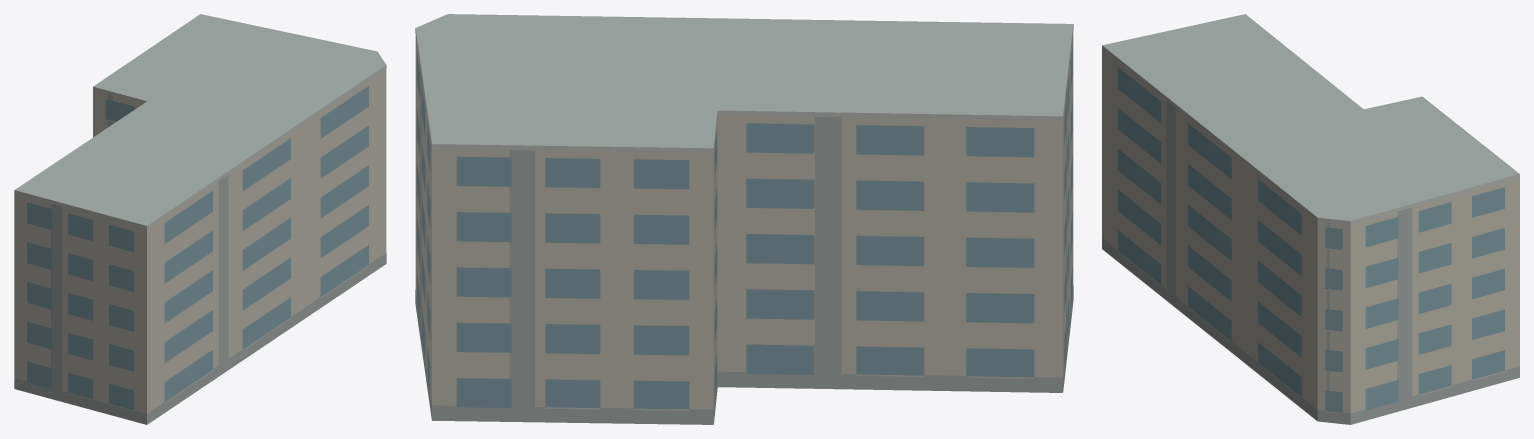
File: survey-upis-32893706.glb
3 views of the same model, side by side, from view 1: azimuth 30°, elevation 25°; view 2: azimuth 150°, elevation 25°; view 3: azimuth 270°, elevation 25° (orthographic). The views are drawn at different scales.
Visible parts, largest first — view 1: survey-upis-32893706.tmp; view 2: survey-upis-32893706.tmp; view 3: survey-upis-32893706.tmp.
Boxes of the visible parts, x1,y1,x2,y2 form: survey-upis-32893706.tmp: [14, 14, 386, 424]; survey-upis-32893706.tmp: [415, 14, 1073, 424]; survey-upis-32893706.tmp: [1102, 14, 1519, 424].
Bounding box in the file's own units: 30.31 × 13.9 × 25.83.
